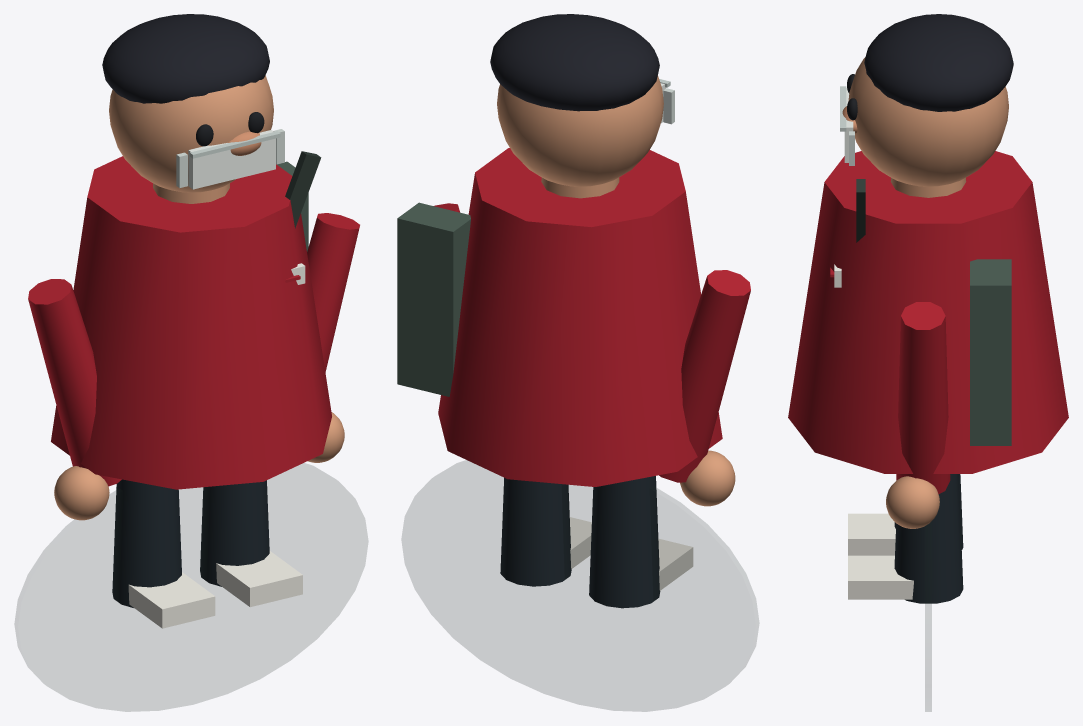
The model's file is player_male_red_mask.glb.
3 views of the same model, side by side, from view 1: azimuth 30°, elevation 25°; view 2: azimuth 150°, elevation 25°; view 3: azimuth 270°, elevation 25° (orthographic). The views are drawn at different scales.
Parts seen in each view (by area): view 1: torso, contact_shadow, hair_cap, head, arm_-0.255, leg_-0.095, leg_0.095, arm_0.255, shoe_-0.095, shoe_0.095, medical_mask, hand_-0.255 (+4 smaller); view 2: torso, contact_shadow, hair_cap, shoulder_bag, head, leg_-0.095, arm_-0.255, leg_0.095, hand_-0.255, shoe_-0.095, shoe_0.095, neck; view 3: torso, hair_cap, head, arm_0.255, shoulder_bag, leg_0.095, shoe_0.095, hand_0.255, shoe_-0.095, contact_shadow, neck, bag_strap.
Part boxes in pixels (x1=…): torso: x1=51, y1=156, x2=331, y2=489; contact_shadow: x1=15, y1=463, x2=367, y2=711; hair_cap: x1=102, y1=14, x2=269, y2=103; head: x1=109, y1=75, x2=273, y2=192; arm_-0.255: x1=28, y1=279, x2=121, y2=486; leg_-0.095: x1=112, y1=479, x2=181, y2=607; leg_0.095: x1=200, y1=480, x2=269, y2=586; arm_0.255: x1=307, y1=213, x2=359, y2=372; shoe_-0.095: x1=128, y1=572, x2=215, y2=628; shoe_0.095: x1=216, y1=551, x2=302, y2=607; medical_mask: x1=188, y1=130, x2=275, y2=189; hand_-0.255: x1=54, y1=466, x2=109, y2=520; torso: x1=438, y1=148, x2=722, y2=486; contact_shadow: x1=402, y1=460, x2=758, y2=711; hair_cap: x1=490, y1=14, x2=659, y2=111; shoulder_bag: x1=397, y1=202, x2=470, y2=396; head: x1=497, y1=75, x2=663, y2=186; leg_-0.095: x1=589, y1=476, x2=660, y2=608; arm_-0.255: x1=659, y1=270, x2=750, y2=482; leg_0.095: x1=500, y1=477, x2=571, y2=586; hand_-0.255: x1=680, y1=450, x2=735, y2=506; shoe_-0.095: x1=658, y1=538, x2=693, y2=590; shoe_0.095: x1=569, y1=517, x2=591, y2=568; neck: x1=541, y1=177, x2=619, y2=198; torso: x1=788, y1=151, x2=1068, y2=473; hair_cap: x1=864, y1=14, x2=1013, y2=111; head: x1=848, y1=57, x2=1008, y2=186; arm_0.255: x1=896, y1=302, x2=950, y2=494; shoulder_bag: x1=970, y1=259, x2=1011, y2=445; leg_0.095: x1=894, y1=474, x2=963, y2=603; shoe_0.095: x1=848, y1=555, x2=913, y2=599; hand_0.255: x1=886, y1=476, x2=939, y2=528; shoe_-0.095: x1=848, y1=513, x2=895, y2=555; contact_shadow: x1=925, y1=522, x2=931, y2=711; neck: x1=890, y1=177, x2=966, y2=197; bag_strap: x1=856, y1=179, x2=865, y2=242.
Bounding box in the file's own units: 0.7904 × 1.45 × 0.5616.
